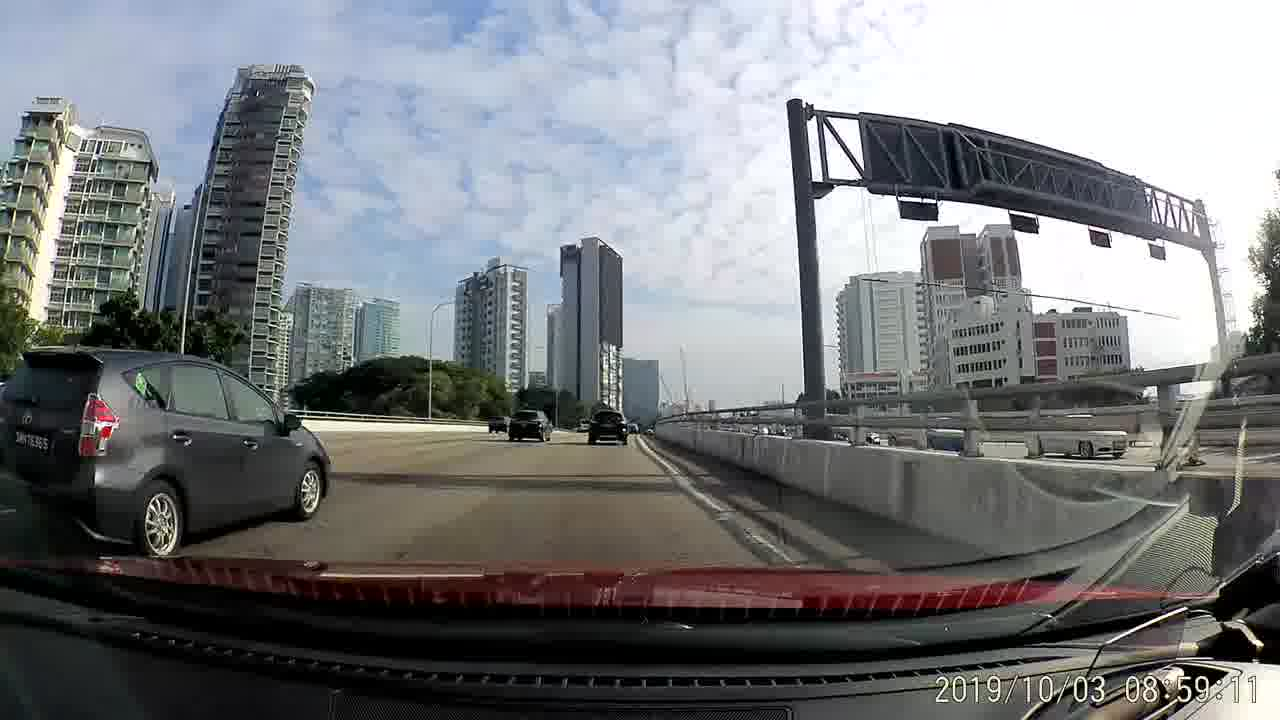car: (5, 343, 330, 558), (1024, 410, 1131, 457), (507, 406, 552, 445), (588, 406, 631, 444), (488, 413, 512, 432)
